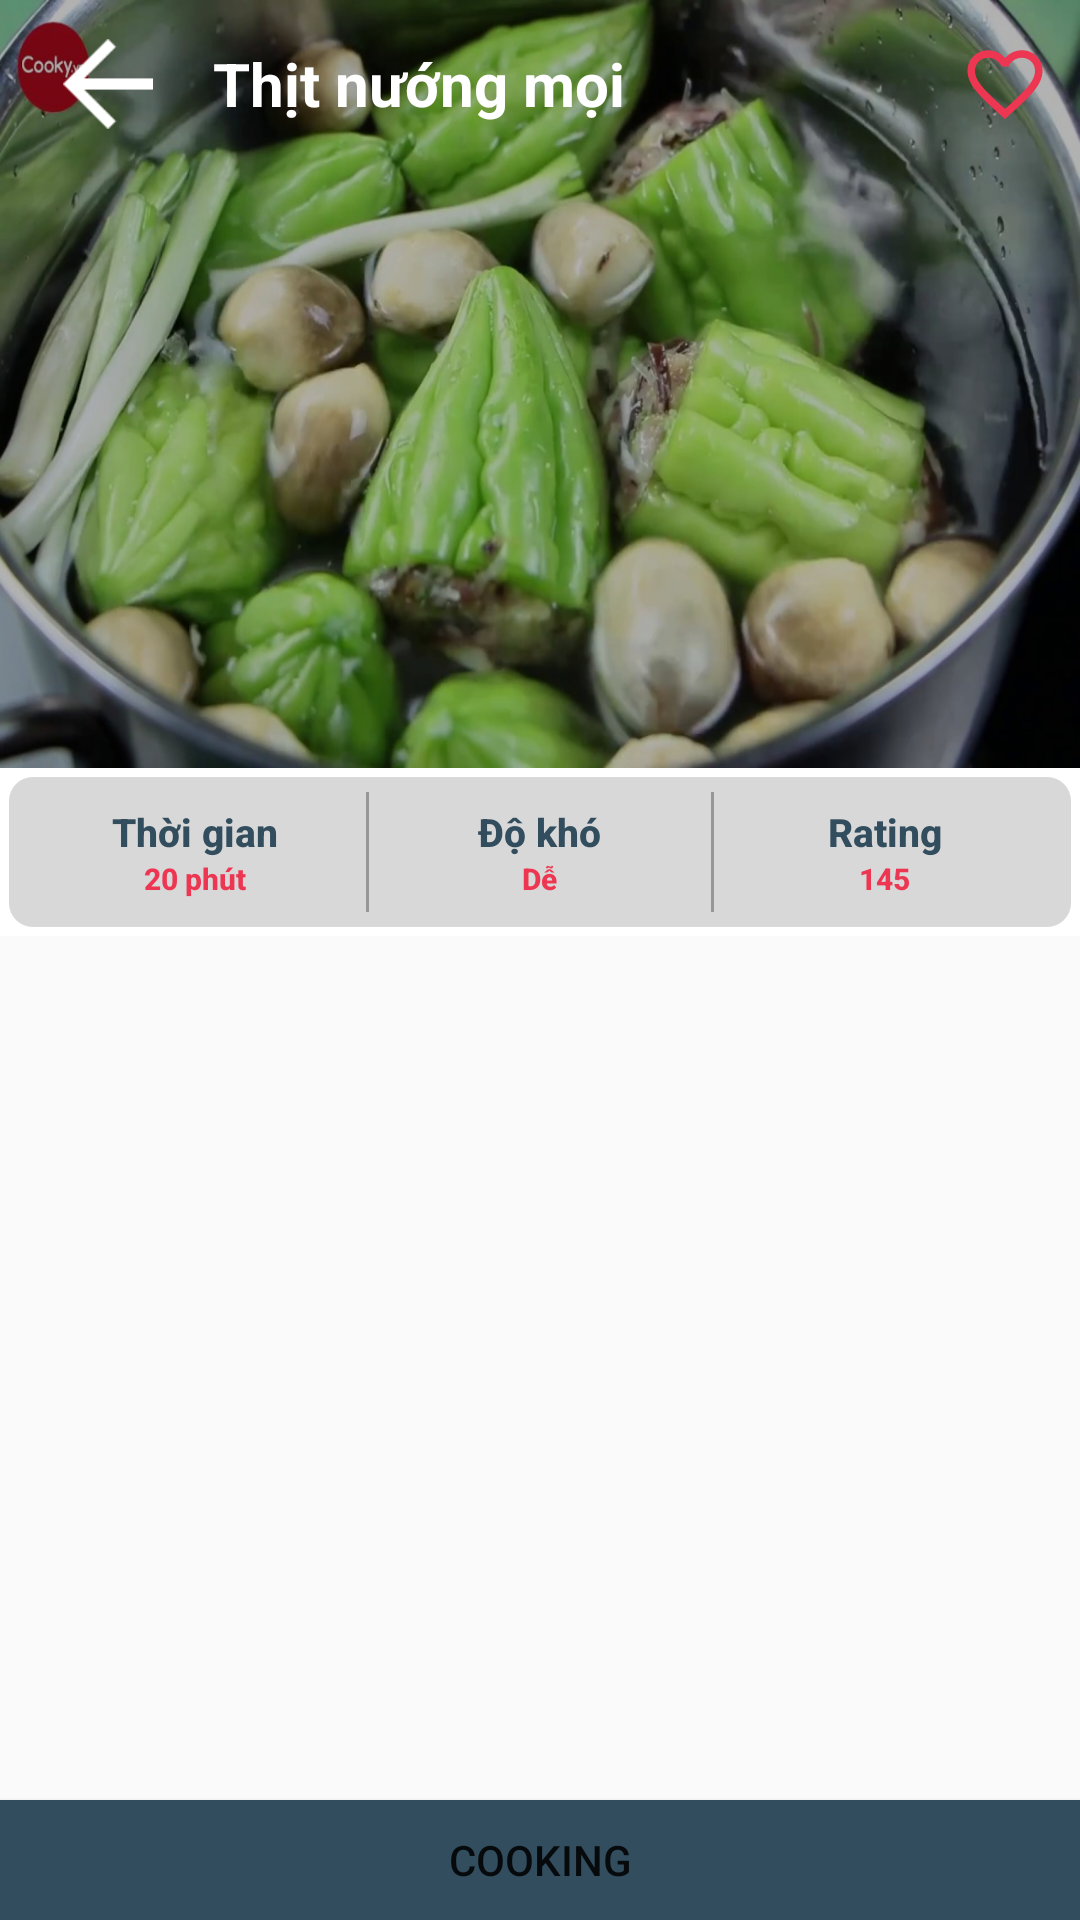

Point at icon controls on the screen. Image size 1080 × 1920, points as (x=x, y=y).
back arrow: (x=108, y=84)
